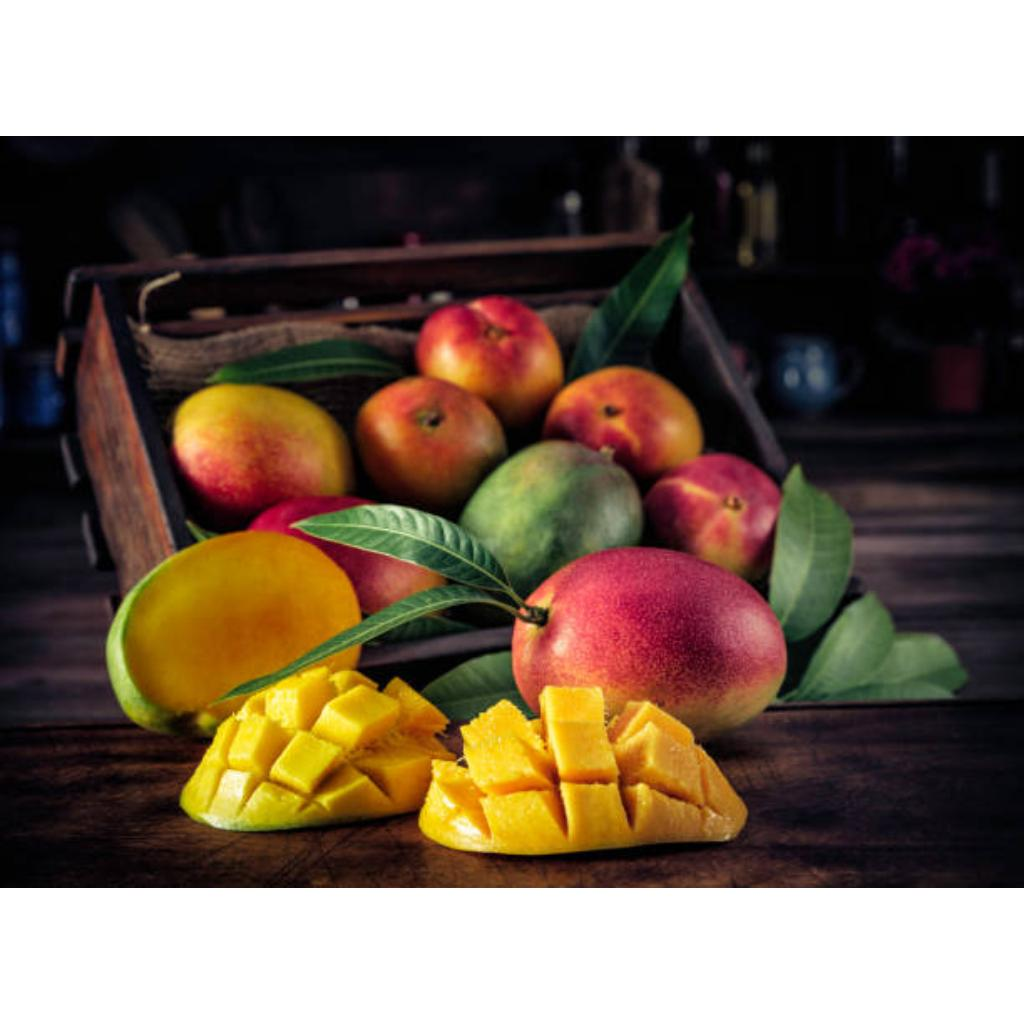mango: (512, 548, 786, 738), (106, 532, 360, 735), (460, 442, 640, 595), (172, 384, 354, 525), (358, 376, 506, 509), (418, 296, 564, 426), (542, 366, 704, 479), (644, 454, 780, 581)
